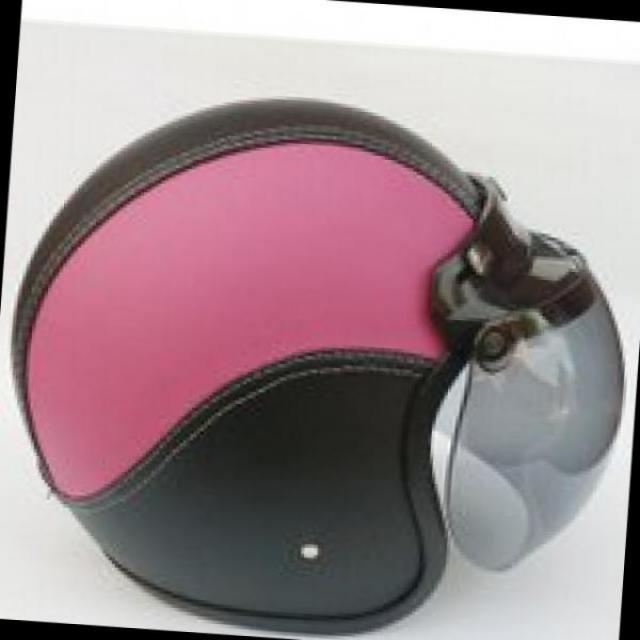Helmet: (24, 103, 607, 598)
